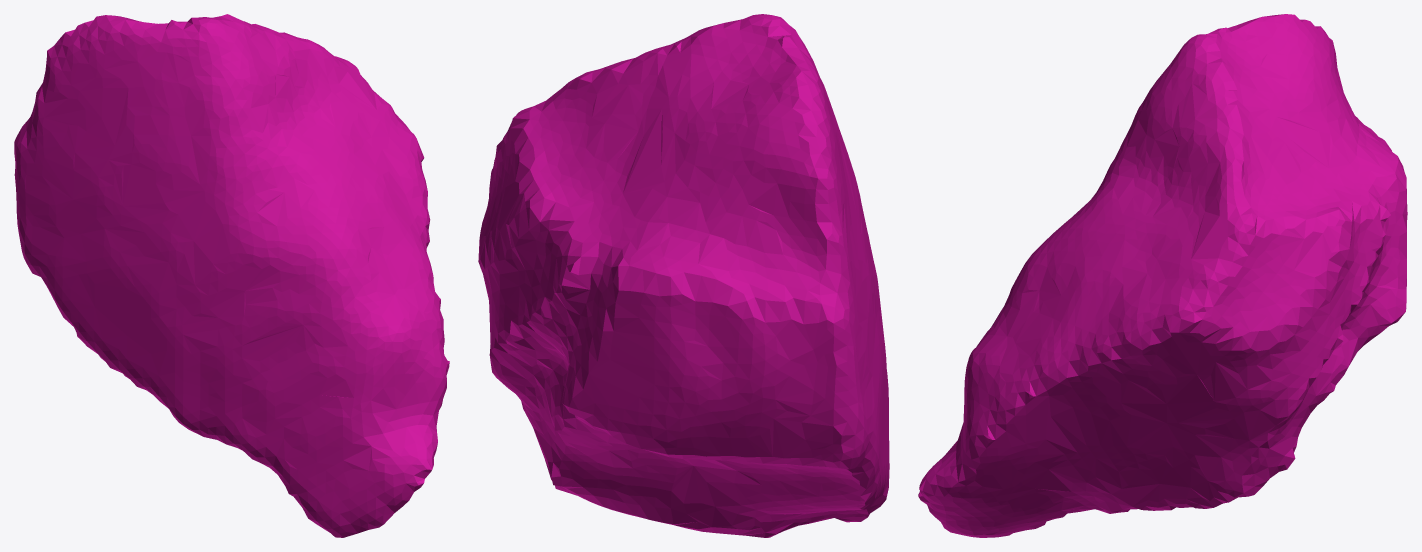
The model's file is Model_10081_LH__Auditory_cortex__primary_area_(AuA1).obj.
3 views of the same model, side by side, from view 1: azimuth 30°, elevation 25°; view 2: azimuth 150°, elevation 25°; view 3: azimuth 270°, elevation 25° (orthographic). The views are drawn at different scales.
Bounding box in the file's own units: 2.99 × 3.86 × 3.54.
